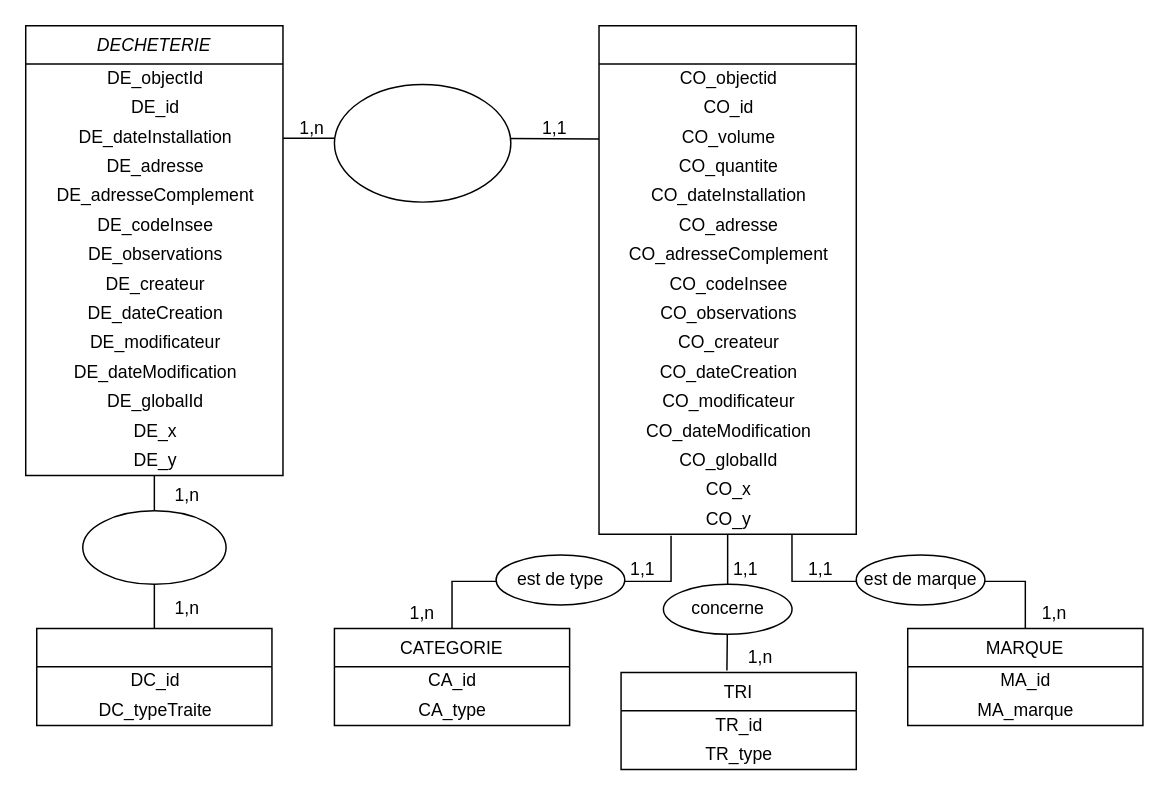
The diagram is 1169 pixels wide and 795 high, and some of its shapes have lost their labels. Here are the shapes that lost their labels. From the top down, the box of each, then its label:
(333, 83, 511, 202): dépend de
(598, 24, 856, 534): COLLECTEUR
(81, 509, 226, 584): traite
(35, 627, 272, 725): DECHET
